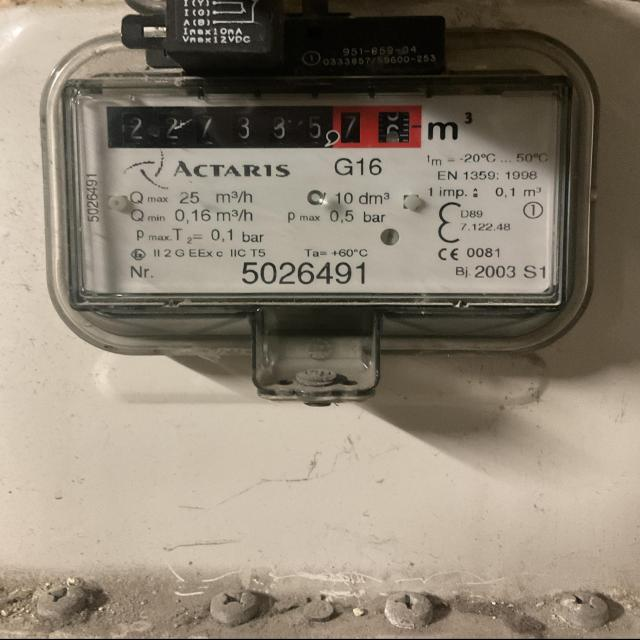gaz_meter: (67, 83, 554, 297)
indication: (104, 103, 415, 148)
